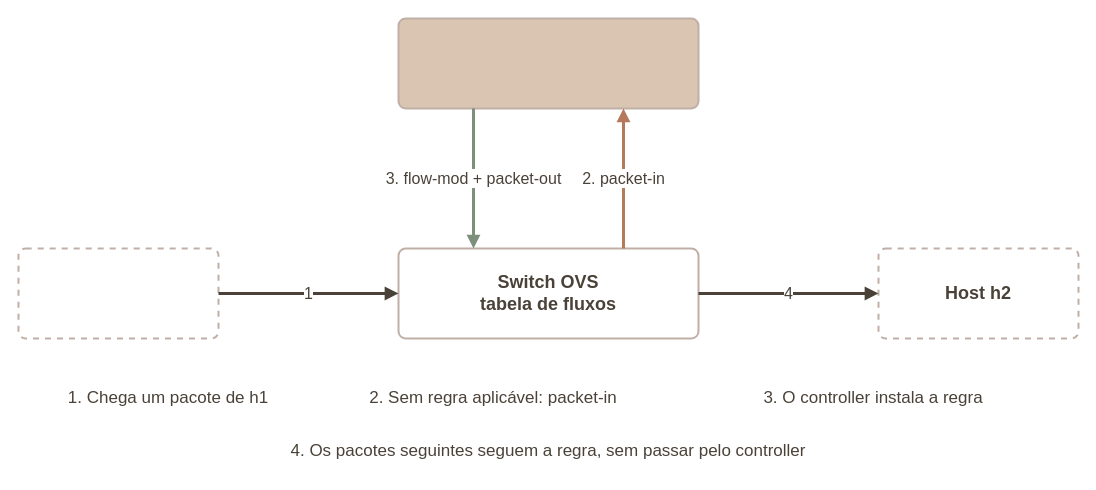
The diagram is 1096 pixels wide and 490 high, and some of its shapes have lost their labels. The shapes that lost their labels are listed below. From the top down, each one's box as (x1, y1, x2, y2) in pixels, then its label:
(397, 17, 699, 109): Controller
(17, 247, 219, 339): Host h1
